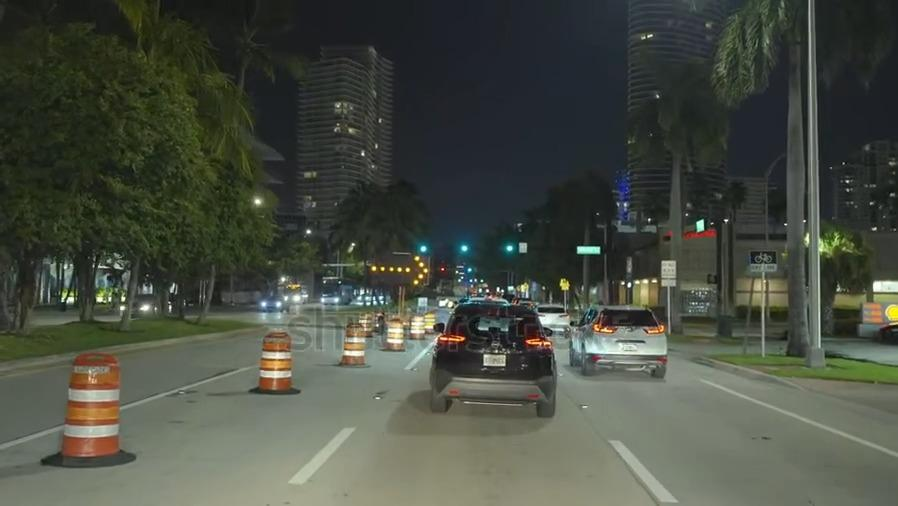arrow traffic sign: (365, 252, 431, 291)
bus: (317, 273, 351, 307), (285, 281, 306, 306)
car: (435, 303, 557, 421), (571, 303, 668, 380), (119, 288, 171, 319), (533, 297, 571, 336), (255, 293, 286, 312)
cone: (55, 349, 124, 456), (254, 329, 294, 391), (340, 319, 367, 359), (382, 313, 405, 350), (358, 308, 373, 337), (421, 311, 435, 335), (408, 313, 421, 336)
traffic light: (412, 235, 433, 259), (455, 235, 473, 262), (500, 235, 517, 259)
